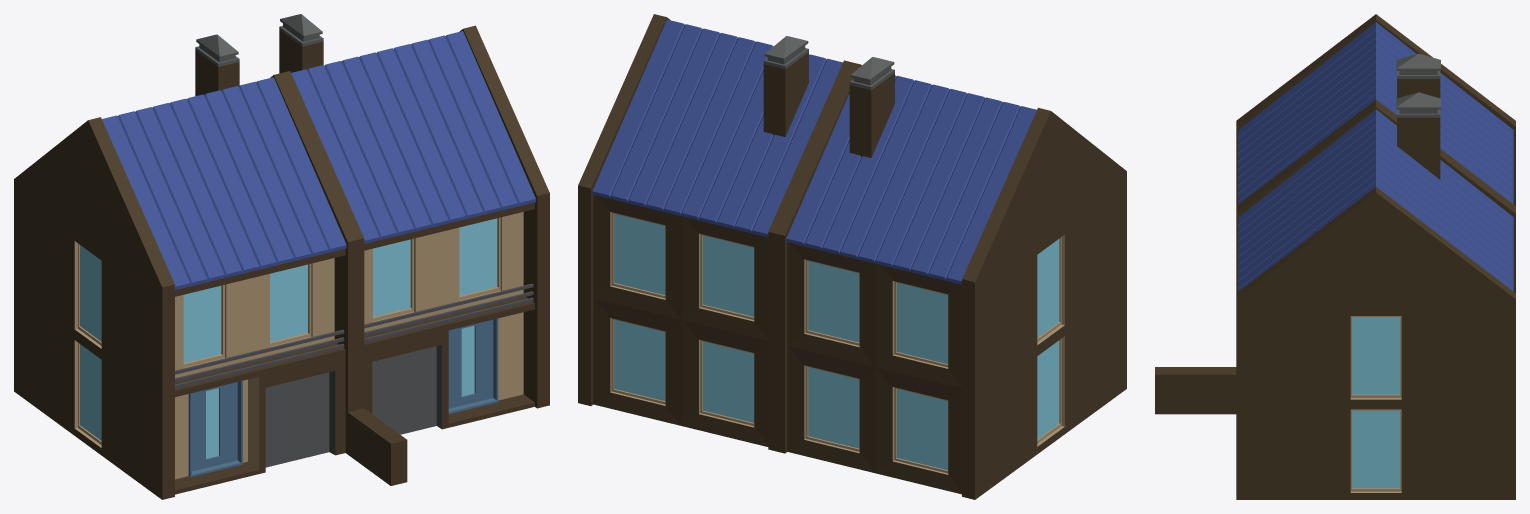
File: SM_Motel_01_B.gltf
3 views of the same model, side by side, from view 1: azimuth 30°, elevation 25°; view 2: azimuth 150°, elevation 25°; view 3: azimuth 270°, elevation 25° (orthographic). The views are drawn at different scales.
Parts seen in each view (by area): view 1: SM_Motel_01_B; view 2: SM_Motel_01_B; view 3: SM_Motel_01_B.
Part boxes in pixels (bbox=[...]): SM_Motel_01_B: bbox=[14, 14, 549, 499]; SM_Motel_01_B: bbox=[578, 14, 1126, 499]; SM_Motel_01_B: bbox=[1155, 14, 1515, 499].
Size of the model in its own units: 4.54 by 4 by 3.88.
